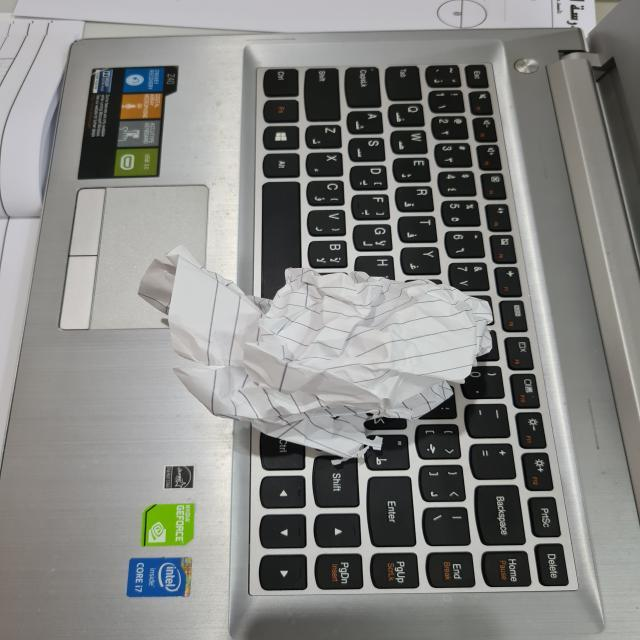Paper: (135, 244, 488, 456)
